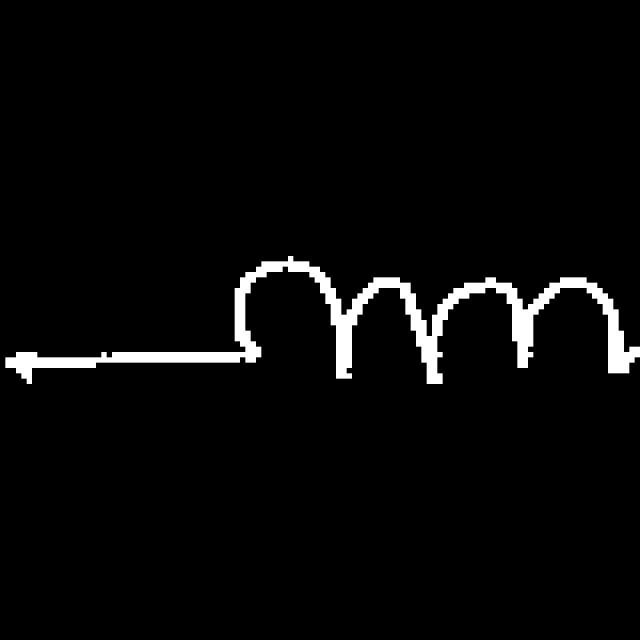inductor: (213, 229, 640, 416)
